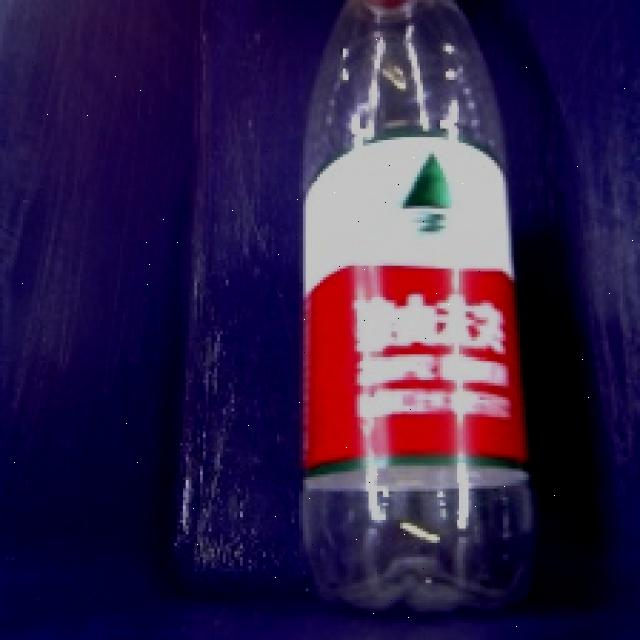plastic: (250, 0, 586, 621)
